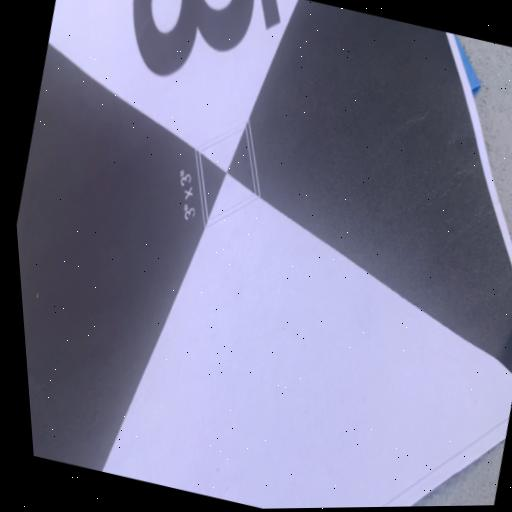target8: (17, 0, 512, 509)
